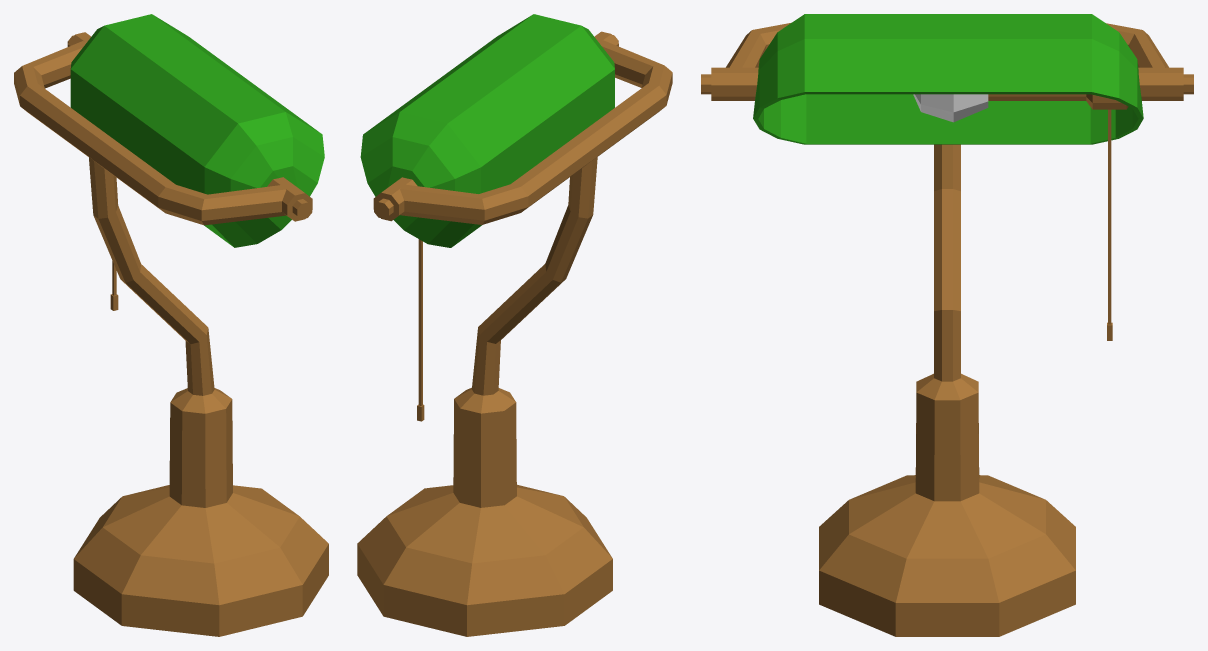
The model's file is Study_Lamp-Light_01.fbx.
The picture shows the model from 3 angles, left to right: view 1: azimuth 30°, elevation 25°; view 2: azimuth 150°, elevation 25°; view 3: azimuth 270°, elevation 25°; orthographic projection. The views are drawn at different scales.
Parts seen in each view (by area): view 1: Study_Lamp; view 2: Study_Lamp; view 3: Study_Lamp, Study_Lamp_Light.
Part boxes in pixels (<box>): Study_Lamp: <box>14,14,328,636</box>; Study_Lamp: <box>357,14,672,636</box>; Study_Lamp: <box>701,14,1193,636</box>; Study_Lamp_Light: <box>913,94,988,122</box>.
Bounding box in the file's own units: 0.1988 × 0.4539 × 0.3665.
